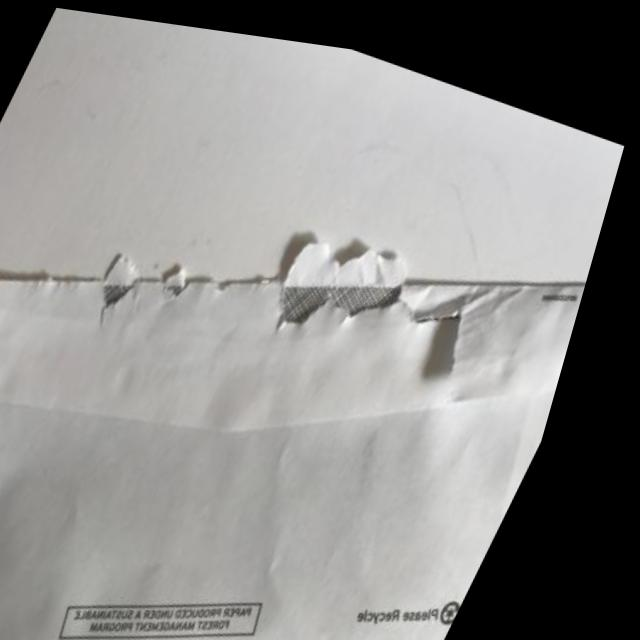paper: (0, 42, 631, 640)
